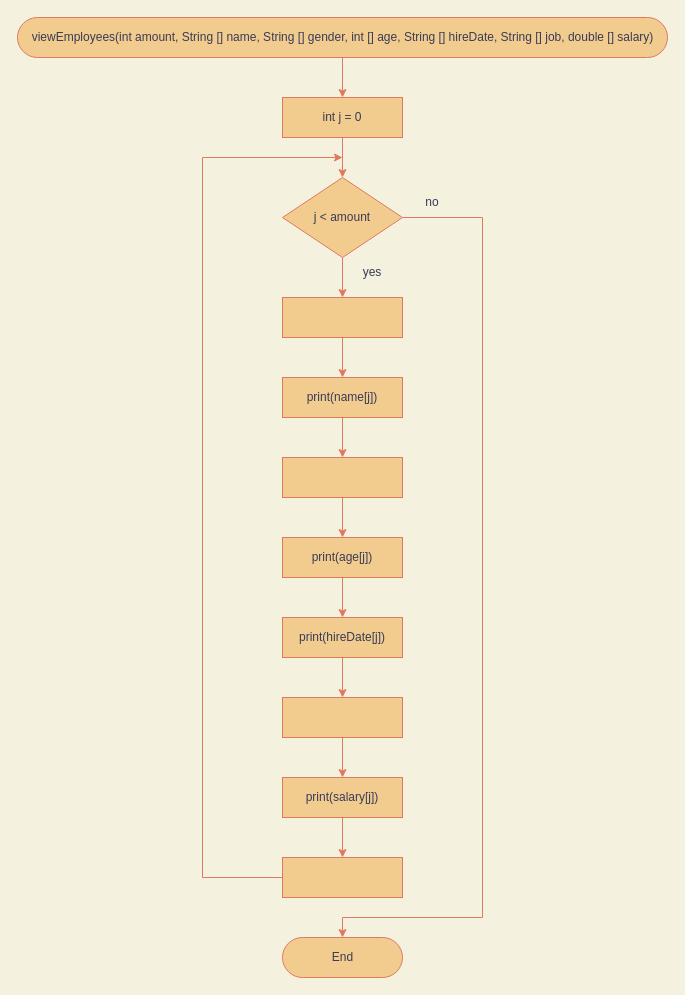
Image size: 685x995. Some labels were removed from this diagram. The centre of each missing label's shape, as x and y in pixels:
j++: the point at 342,877
print(gender[j]): the point at 342,477
print(j+1): the point at 342,317
print(job[j]): the point at 342,717
